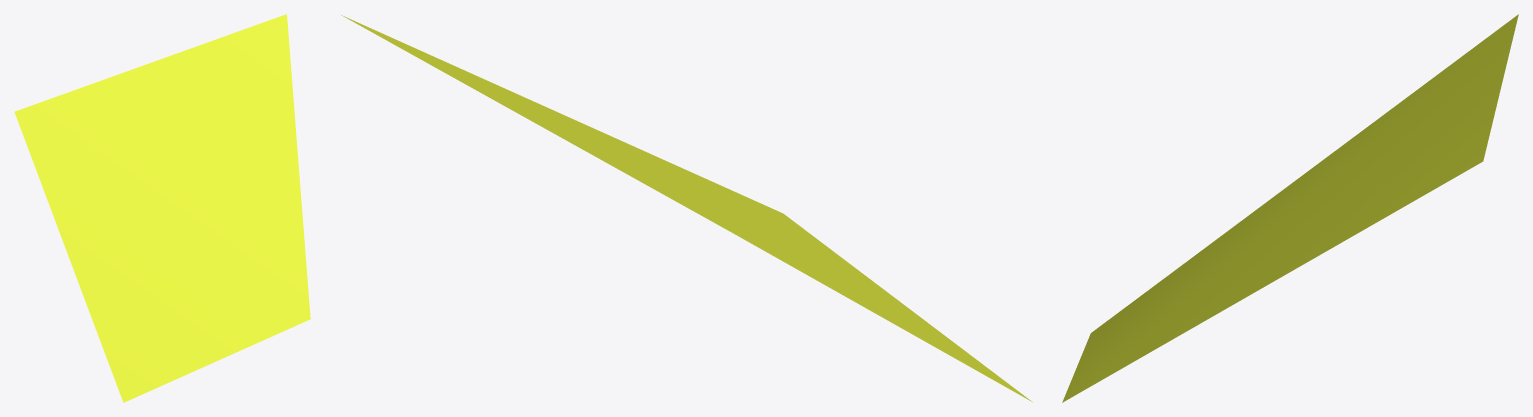
The model's file is b_polySurface672_b_BMW_i8Elite_2_652.glb.
The picture shows the model from 3 angles, left to right: view 1: azimuth 30°, elevation 25°; view 2: azimuth 150°, elevation 25°; view 3: azimuth 270°, elevation 25°; orthographic projection. The views are drawn at different scales.
Parts seen in each view (by area): view 1: b:polySurface672_b:BMW_i8Elite_2017CalliperGloss_Material1_0; view 2: b:polySurface672_b:BMW_i8Elite_2017CalliperGloss_Material1_0; view 3: b:polySurface672_b:BMW_i8Elite_2017CalliperGloss_Material1_0.
Part boxes in pixels (left/top/right/bottom): b:polySurface672_b:BMW_i8Elite_2017CalliperGloss_Material1_0: left=14, top=14, right=310, bottom=402; b:polySurface672_b:BMW_i8Elite_2017CalliperGloss_Material1_0: left=341, top=15, right=1032, bottom=402; b:polySurface672_b:BMW_i8Elite_2017CalliperGloss_Material1_0: left=1062, top=14, right=1518, bottom=402.
Size of the model in its own units: 0.0129 by 0.0105 by 0.0107.
